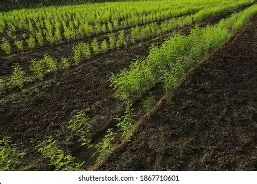crops: (0, 0, 254, 170), (126, 0, 246, 25), (171, 19, 230, 66), (139, 117, 198, 164), (109, 55, 158, 101), (2, 0, 142, 14), (218, 111, 257, 151), (33, 134, 76, 169), (159, 54, 188, 100), (61, 108, 93, 145), (0, 135, 30, 168), (90, 129, 119, 163), (1, 63, 27, 91), (109, 113, 133, 141), (26, 55, 52, 78), (71, 39, 90, 62), (0, 38, 12, 54), (115, 30, 124, 49), (107, 76, 120, 89), (58, 54, 69, 69), (12, 38, 23, 52), (25, 34, 35, 49), (0, 17, 7, 38), (89, 37, 98, 53), (98, 38, 107, 52), (15, 151, 25, 157), (77, 160, 85, 167), (78, 141, 87, 147)
